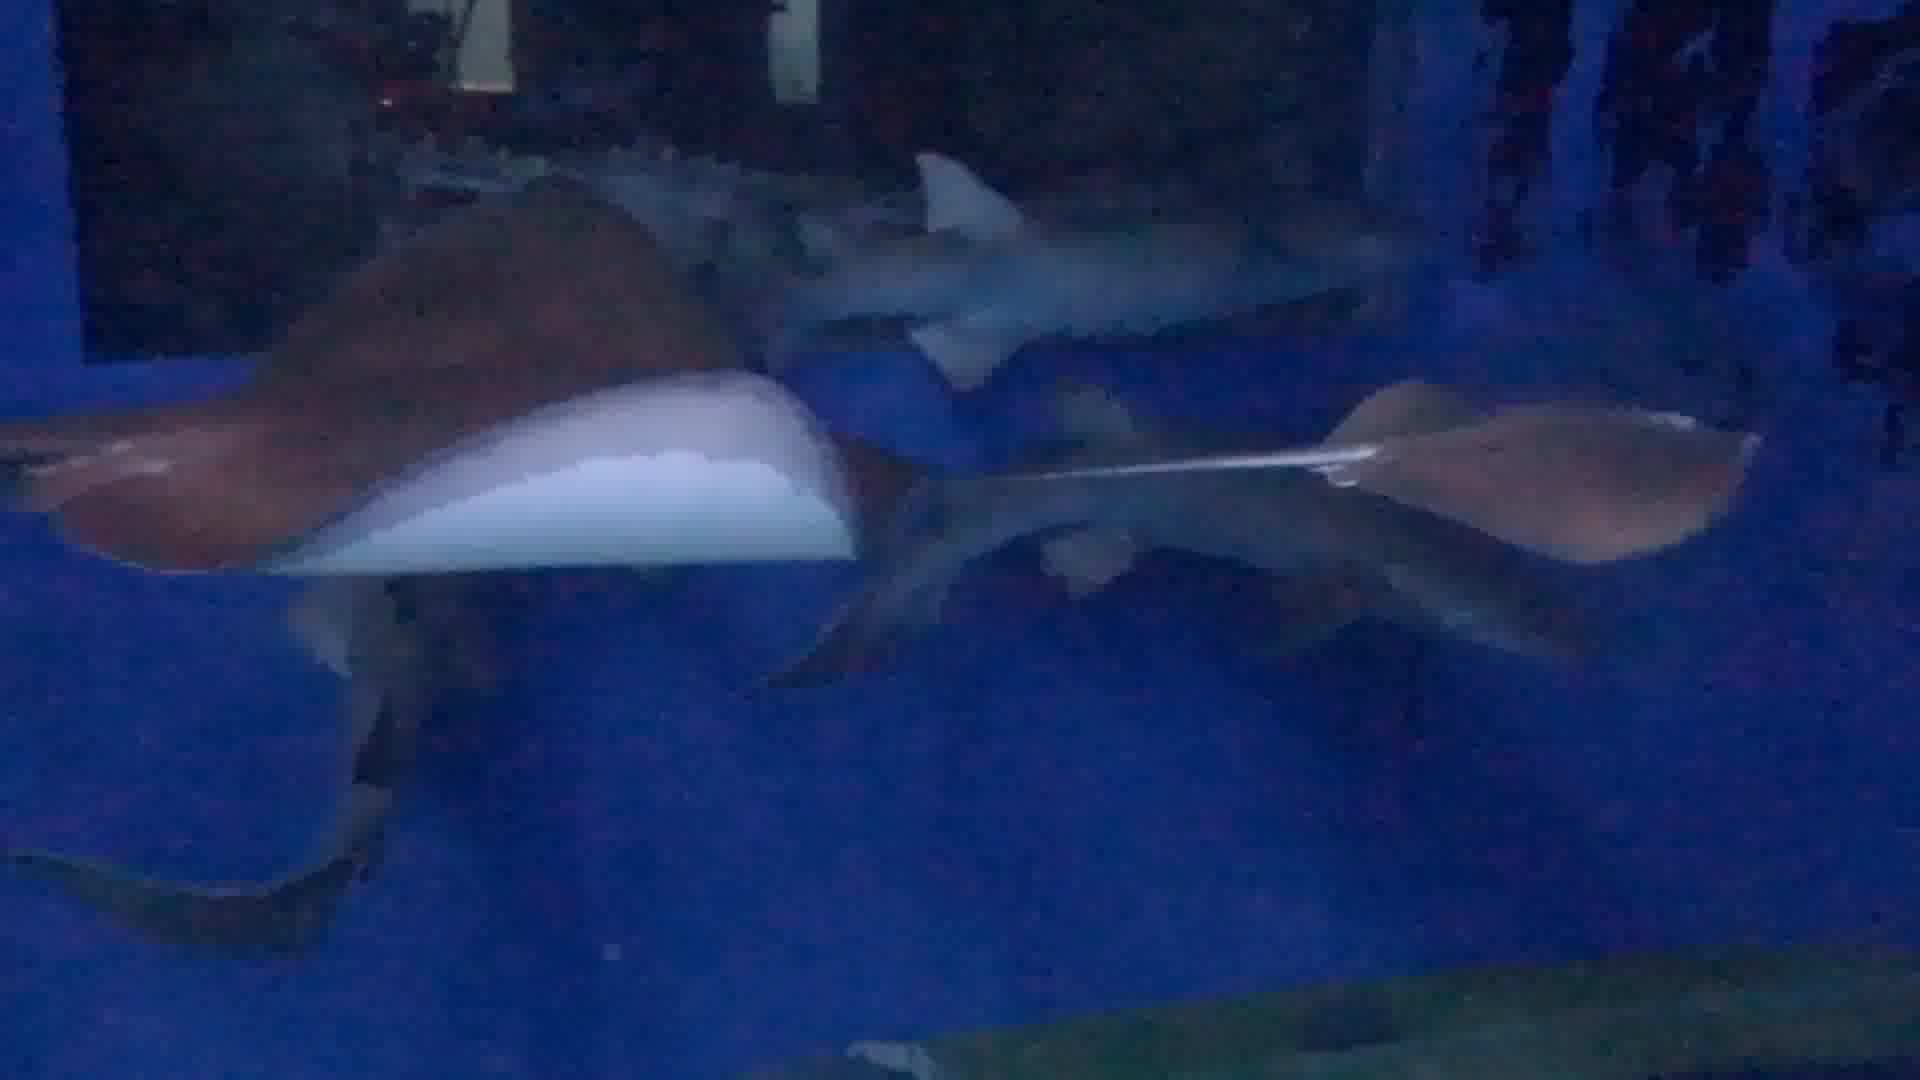Nebrius ferrugineus: (778, 117, 1476, 375)
